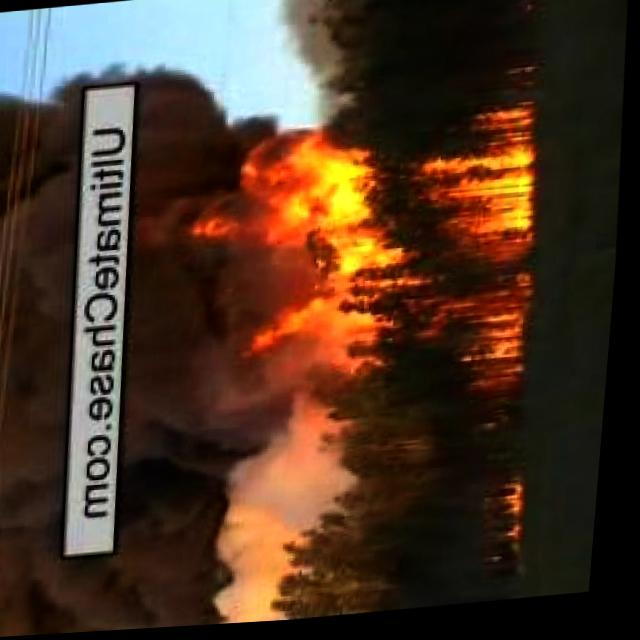Fire: (177, 117, 551, 425), (487, 482, 539, 567)
Smoke: (107, 62, 265, 633), (0, 73, 98, 640)
